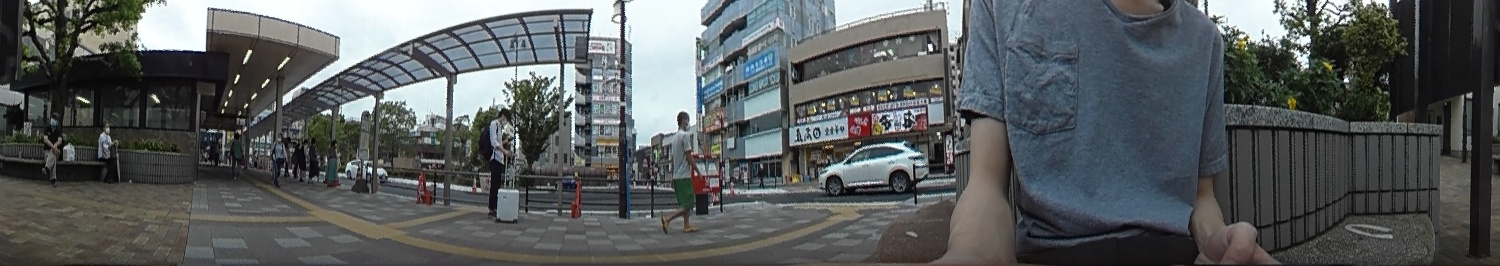difficult_person: (269, 133, 285, 181), (325, 137, 339, 184), (231, 132, 243, 172), (306, 138, 318, 177), (297, 139, 308, 180), (209, 137, 219, 164)
person: (669, 108, 706, 227), (480, 110, 509, 213), (96, 122, 119, 185), (45, 110, 61, 181)
